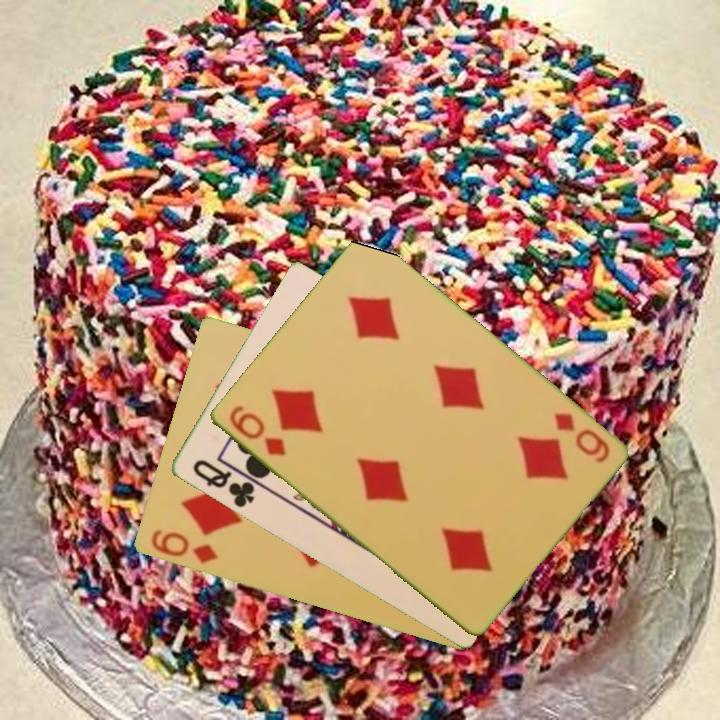6d: (225, 401, 288, 459), (549, 409, 613, 466), (147, 526, 221, 567)
Qc: (188, 456, 265, 511)
